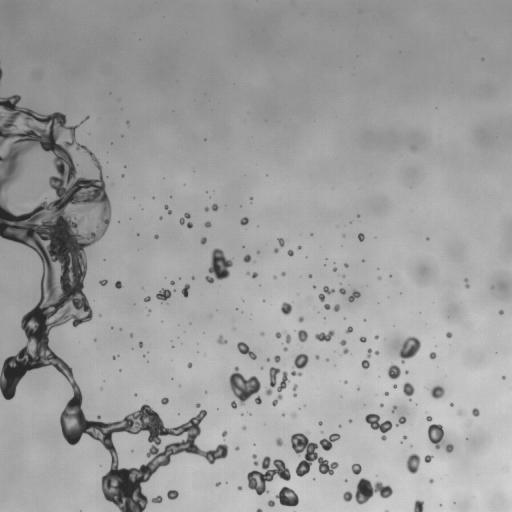droplet: (291, 433, 340, 476), (247, 456, 290, 494), (229, 366, 260, 405), (205, 248, 232, 283), (365, 413, 392, 440), (398, 336, 420, 362), (427, 423, 444, 449), (276, 486, 298, 506), (406, 453, 420, 473), (318, 286, 334, 301), (315, 330, 334, 341), (179, 212, 192, 228), (387, 363, 400, 379), (156, 288, 171, 301), (430, 385, 444, 398), (403, 382, 414, 398), (280, 302, 292, 315), (348, 290, 360, 301), (297, 329, 307, 342), (351, 463, 361, 474), (413, 500, 423, 511), (181, 284, 189, 297), (167, 490, 178, 499), (396, 416, 406, 425), (217, 335, 226, 344), (151, 496, 162, 503), (445, 444, 453, 453), (240, 217, 248, 225), (243, 254, 251, 262), (424, 455, 433, 462), (277, 238, 284, 246), (161, 397, 168, 405), (254, 396, 261, 404), (472, 408, 479, 416), (115, 281, 122, 288), (345, 326, 352, 333), (429, 352, 436, 359), (358, 233, 364, 241), (99, 279, 107, 285), (276, 438, 282, 446), (267, 500, 275, 506), (204, 221, 211, 227), (200, 237, 206, 244), (333, 304, 339, 311), (359, 336, 366, 342), (274, 355, 280, 362), (231, 401, 237, 408), (287, 249, 293, 255), (251, 272, 257, 278), (339, 288, 345, 294), (275, 332, 281, 338), (340, 339, 346, 345), (222, 430, 227, 437), (144, 296, 150, 301), (324, 304, 330, 309), (298, 316, 303, 322), (446, 332, 451, 338), (343, 348, 348, 354), (426, 416, 432, 421), (392, 405, 396, 411), (274, 248, 278, 253), (458, 410, 462, 415), (292, 412, 296, 417), (429, 478, 433, 483), (215, 482, 220, 486), (237, 486, 242, 490), (154, 234, 158, 238), (344, 263, 348, 267), (281, 272, 285, 276), (170, 281, 174, 285), (499, 310, 503, 314), (283, 347, 287, 351), (315, 355, 319, 359), (187, 363, 191, 367), (196, 403, 200, 407), (318, 421, 322, 425), (242, 426, 246, 430), (252, 454, 256, 458), (139, 342, 142, 347), (297, 246, 301, 249), (333, 267, 336, 271), (375, 335, 378, 339), (393, 385, 397, 388), (235, 447, 239, 450), (250, 197, 253, 200), (308, 274, 311, 277), (405, 370, 408, 373), (385, 392, 388, 395), (450, 403, 453, 406), (403, 436, 406, 439), (159, 217, 162, 219), (273, 276, 276, 278), (378, 276, 380, 279), (261, 332, 263, 335), (113, 356, 116, 358), (502, 376, 504, 379), (380, 404, 383, 406), (349, 419, 351, 422), (126, 121, 128, 123), (313, 286, 315, 288), (267, 358, 269, 360), (326, 358, 328, 360), (282, 414, 284, 416), (345, 479, 347, 481)
ligament: (0, 97, 228, 511), (343, 478, 392, 504), (265, 367, 288, 406), (291, 353, 308, 375), (361, 349, 379, 369), (237, 341, 256, 359), (204, 204, 218, 211), (284, 331, 291, 343), (292, 384, 297, 396), (164, 205, 171, 213), (464, 278, 469, 288), (0, 68, 2, 81), (256, 508, 262, 511), (385, 510, 388, 511)
